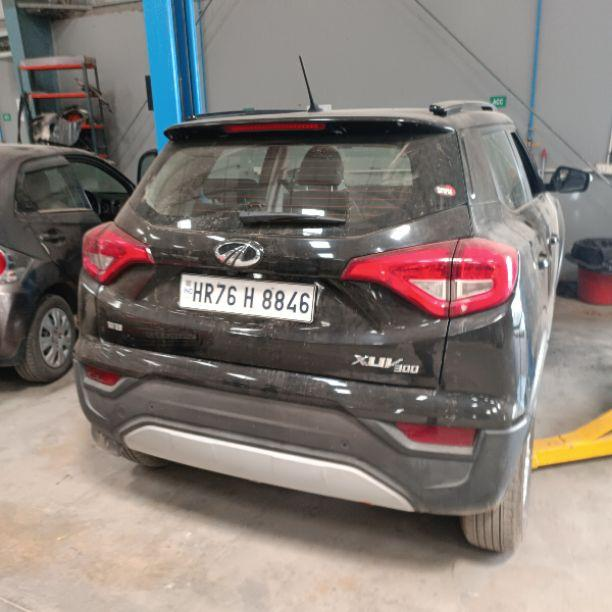license_plate: (176, 271, 316, 323)
